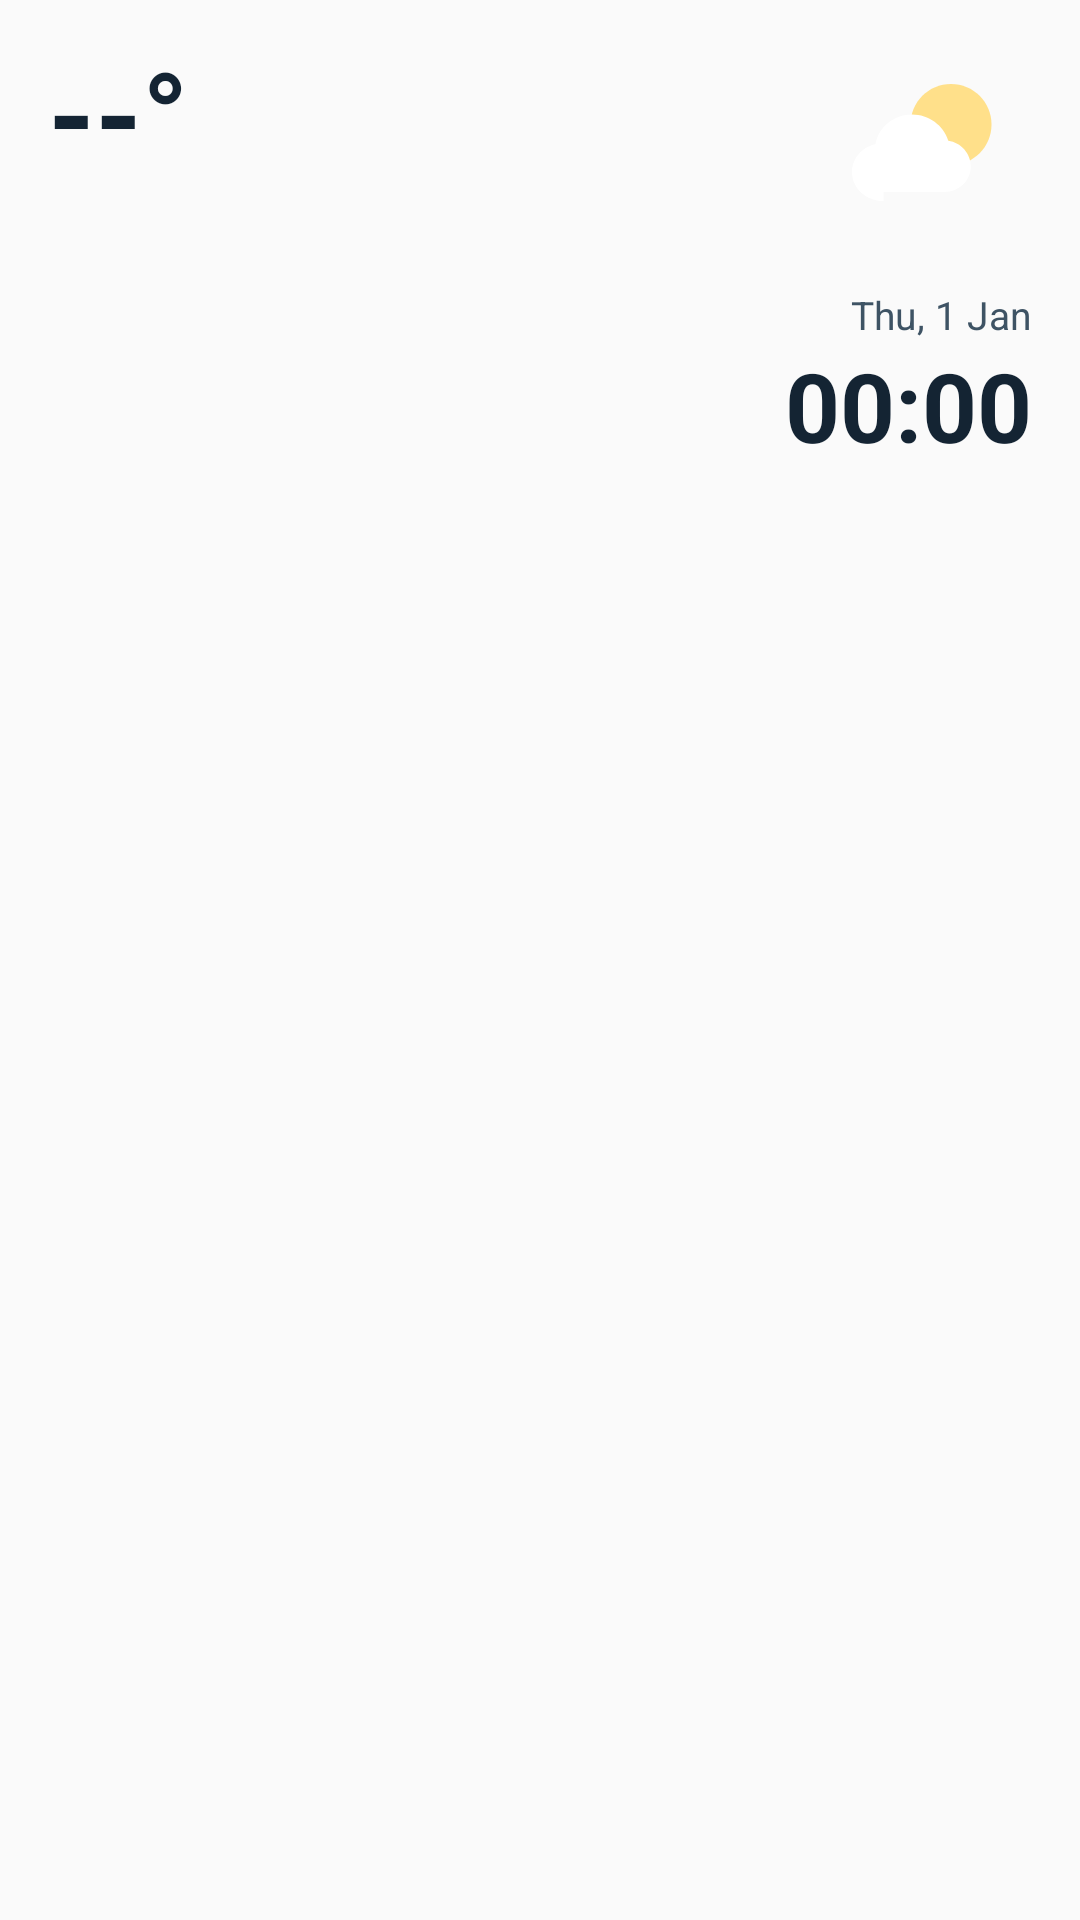

Icons on this 1080*1920 Android screen, each with the point to tap as (x,y):
partly: (952,122)
